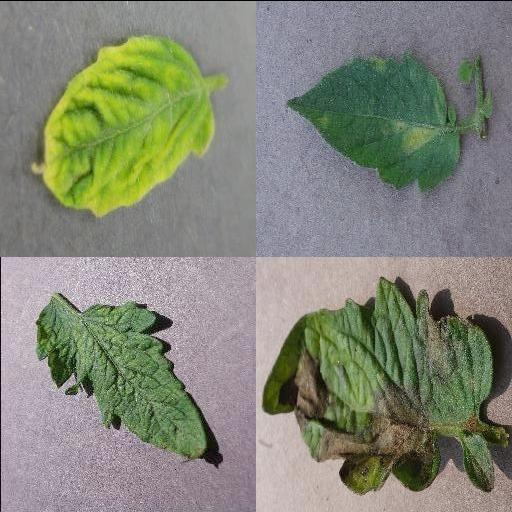Late Blight: (261, 274, 497, 494)
Leaf Mold: (283, 49, 463, 190)
Mosaic Virus: (34, 298, 206, 462)
Yellow Leaf Curl Virus: (30, 33, 216, 217)
